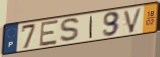7: (20, 23, 37, 50)
9: (102, 11, 122, 38)
E: (38, 19, 60, 48)
I: (88, 15, 94, 39)
S: (58, 17, 82, 44)
V: (123, 6, 144, 34)
